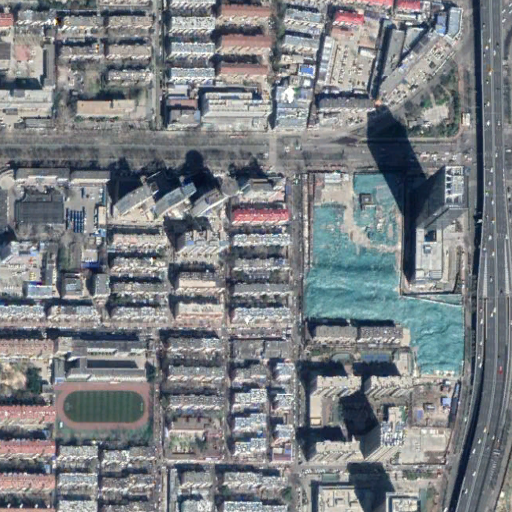cw: (308, 170, 464, 375)
